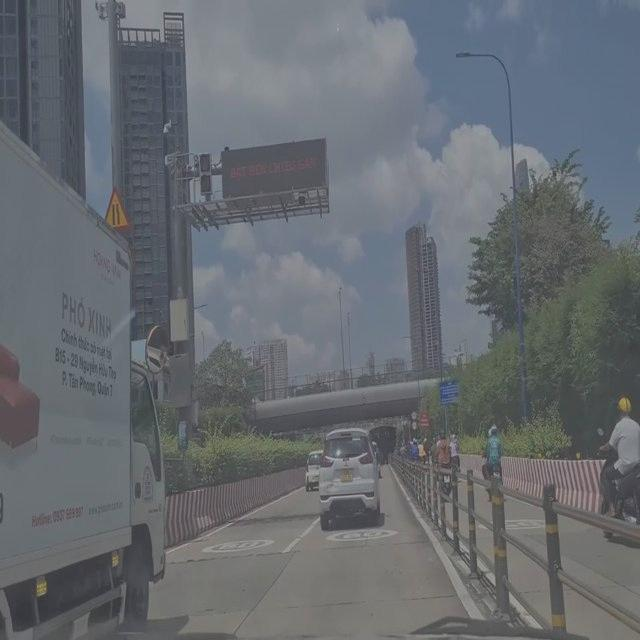Khác: (436, 377, 463, 406)
Đường hẹp: (103, 183, 132, 233)
